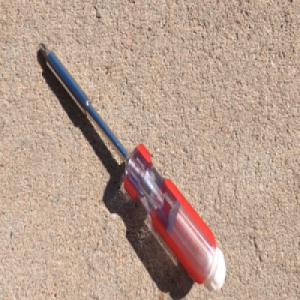Screwdriver: (38, 40, 226, 293)
